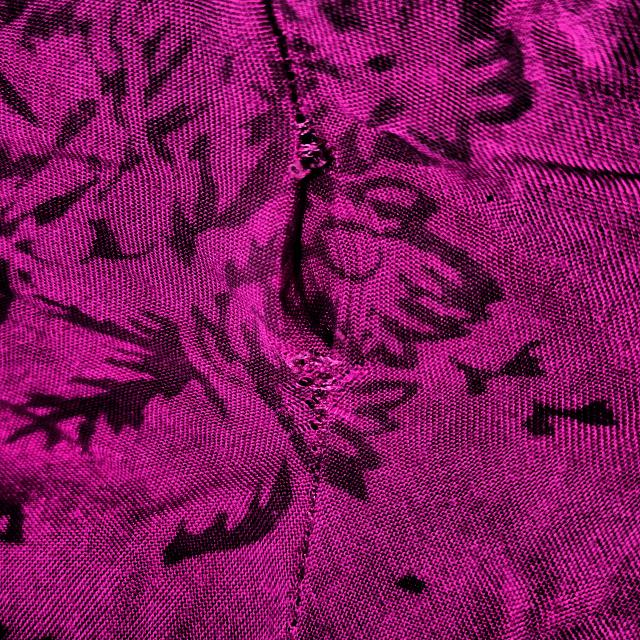seam: (259, 111, 404, 466)
